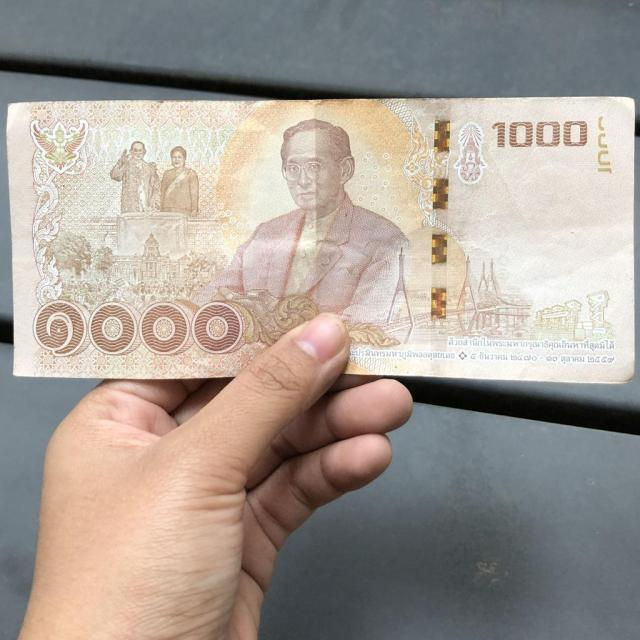THAI1000: (6, 98, 636, 384)
